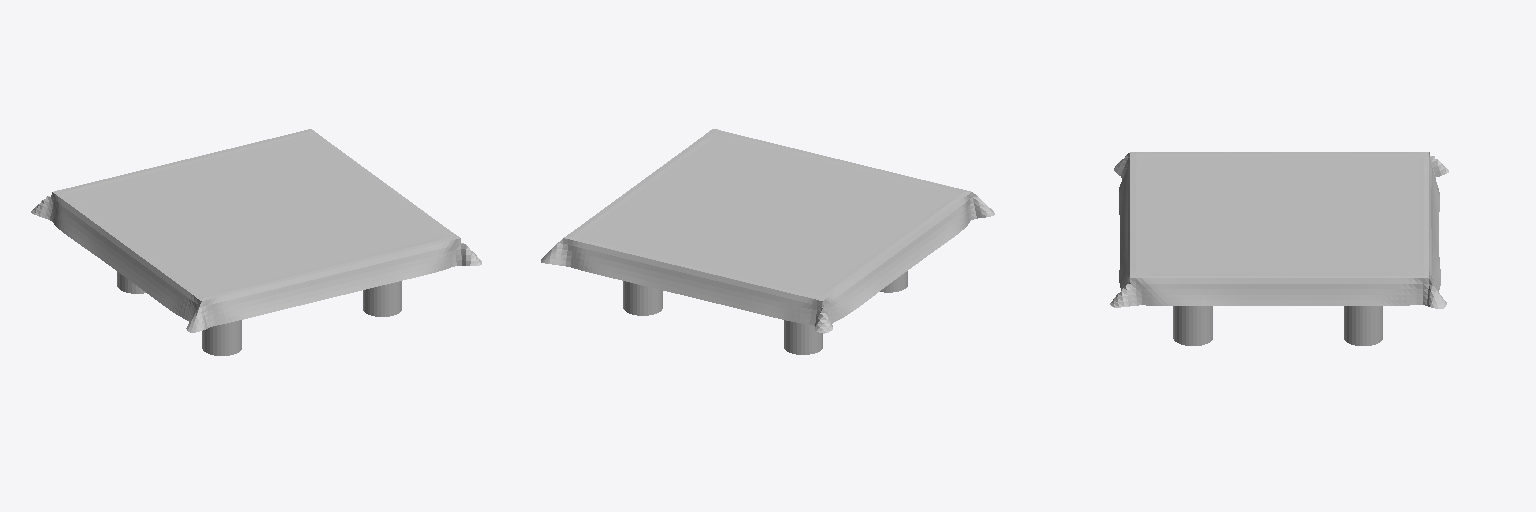
The model's file is PartyTables.obj.
The picture shows the model from 3 angles: view 1: azimuth 30°, elevation 25°; view 2: azimuth 150°, elevation 25°; view 3: azimuth 270°, elevation 25°; orthographic projection.
Visible parts, largest first — view 1: Plane, Cylinder.003, Cylinder.002; view 2: Plane, Cylinder, Cylinder.001; view 3: Plane, Cylinder.002, Cylinder.
Part boxes in pixels (bbox=[...]): Plane: bbox=[31, 129, 481, 332]; Cylinder.003: bbox=[202, 320, 241, 355]; Cylinder.002: bbox=[363, 281, 401, 316]; Plane: bbox=[541, 129, 994, 333]; Cylinder: bbox=[623, 281, 662, 315]; Cylinder.001: bbox=[784, 320, 822, 354]; Plane: bbox=[1110, 152, 1448, 308]; Cylinder.002: bbox=[1173, 306, 1212, 345]; Cylinder: bbox=[1344, 306, 1382, 345].
Bounding box in the file's own units: 8.72 × 2.33 × 8.69.